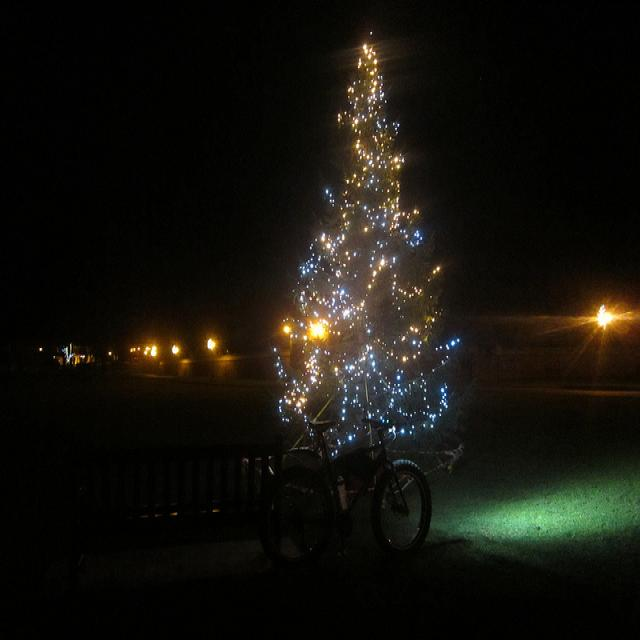Bicycle: (238, 375, 470, 569)
